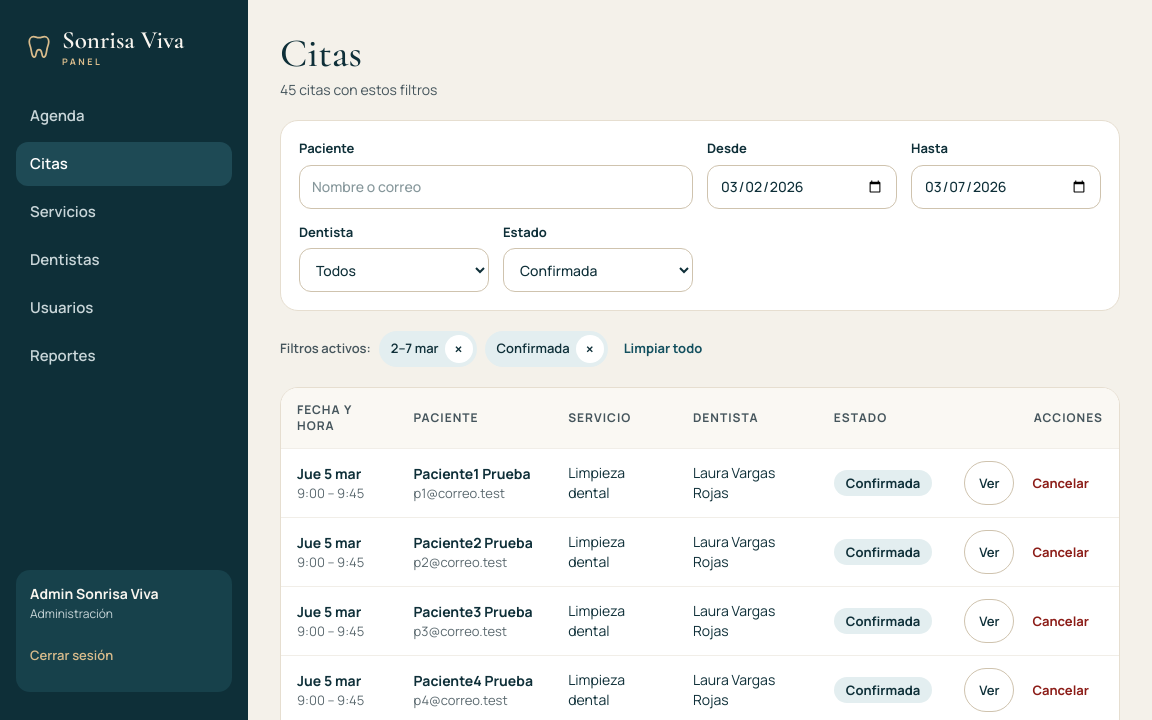
Test: Lista de citas › chip activo se quita con su ×
Expected: the list item "2–7 mar" is shown, [391,339,438,357]
Expected: the list item "Confirmada" is shown, [497,339,570,357]
Step 1. Click the button named "Quitar filtro de estado" → (590, 349), box [576,335,604,363]
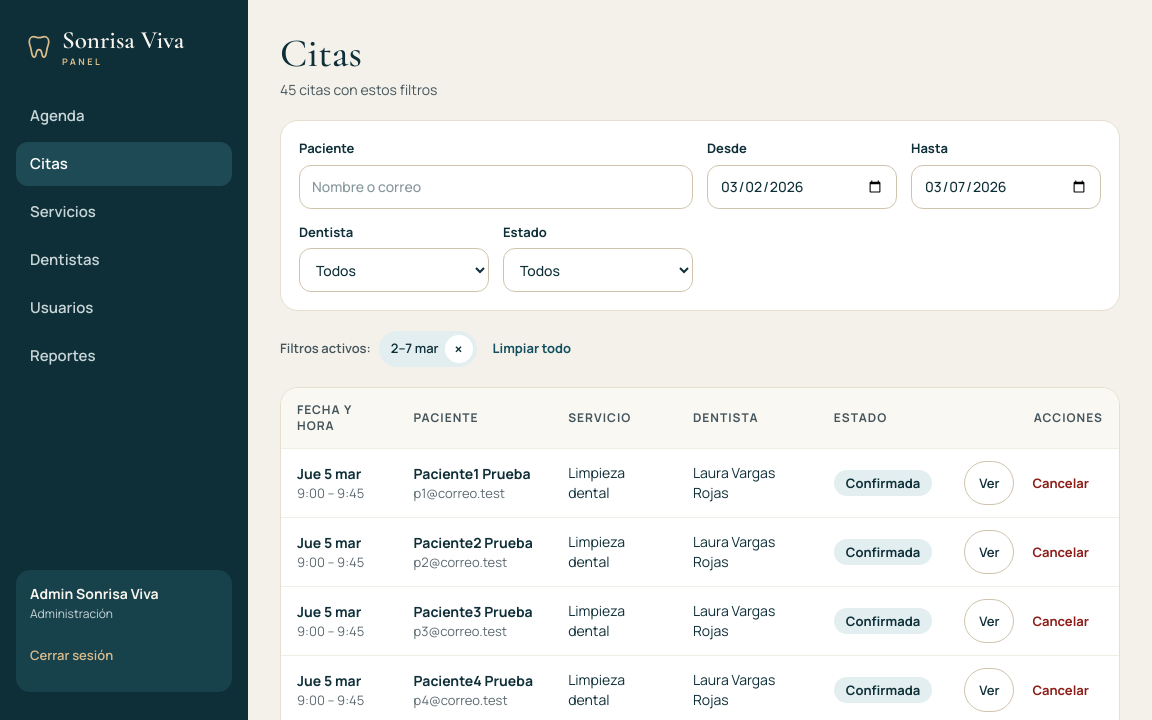
Step 2. Click the button "Limpiar todo" → (532, 349), box [485,327,579,371]
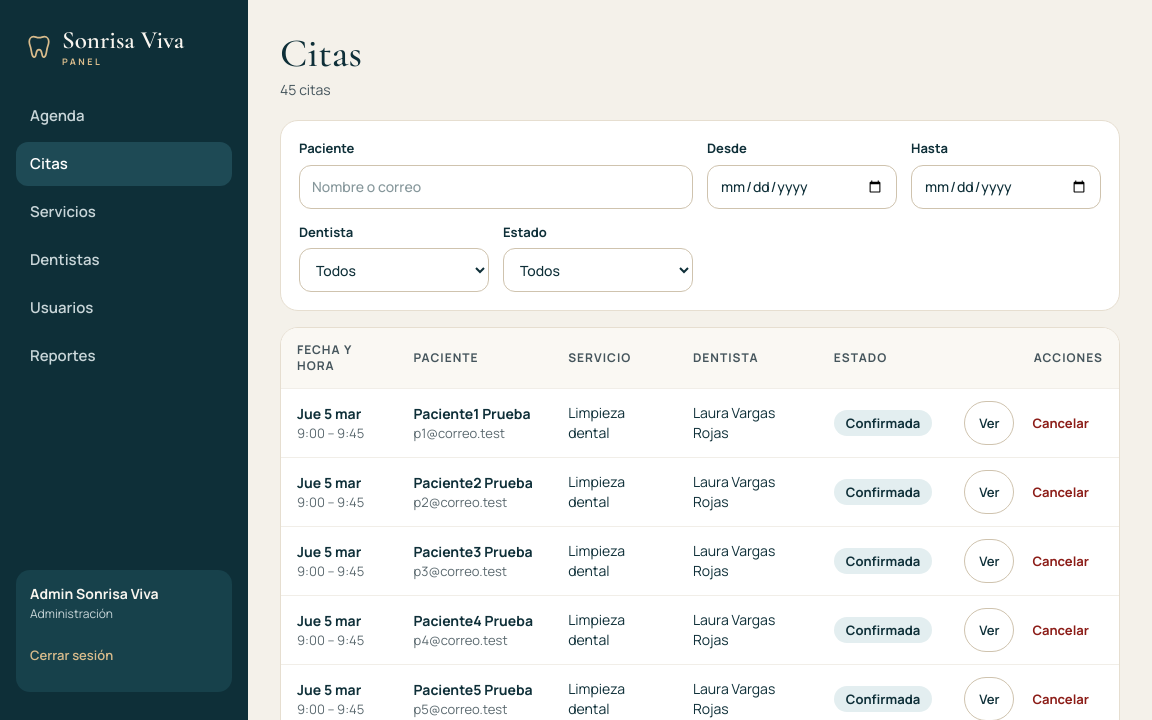
Now the text "Filtros activos" is gone
